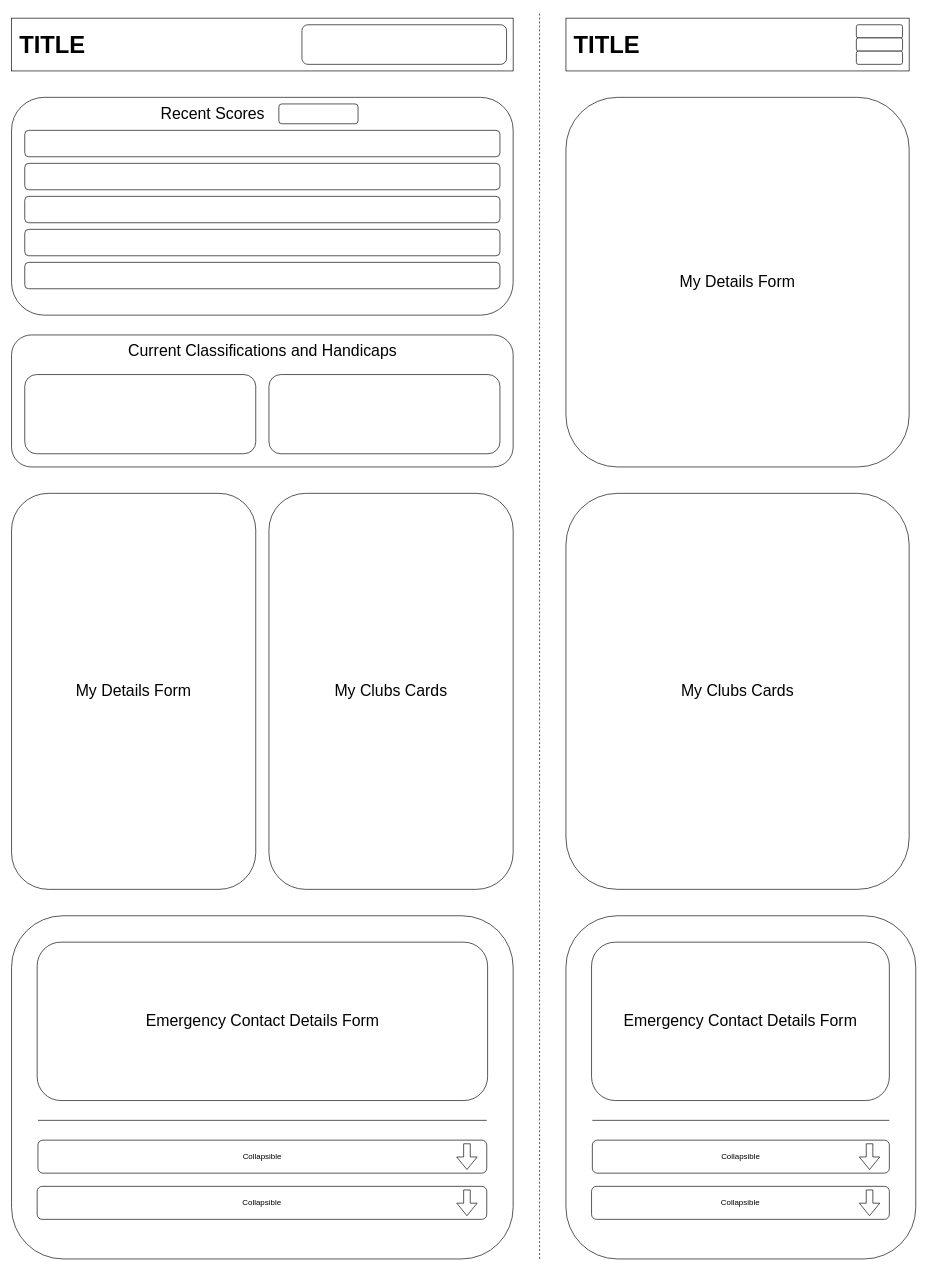
Image size: 927x1271. Some labels were removed from this diagram. The centre of each missing label's shape, as x and y in pixels:
NAV LINKS: the point at 404,44
See all Scores: the point at 318,113
